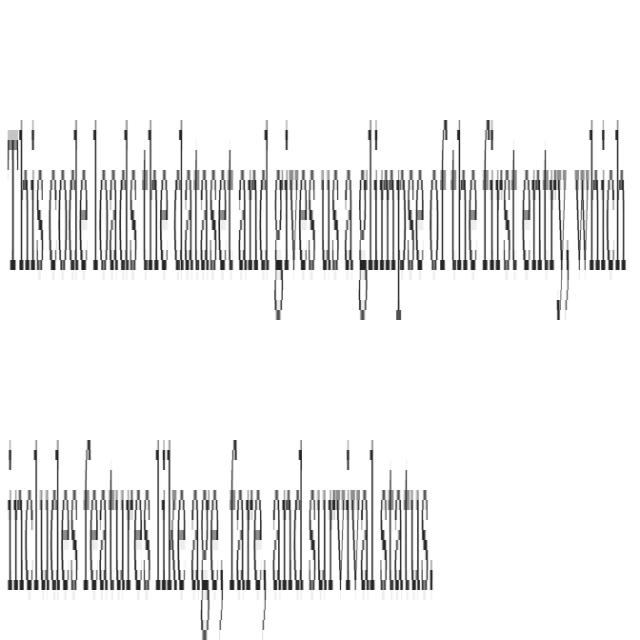word: (357, 95, 428, 367), (79, 400, 153, 640), (170, 81, 237, 319), (4, 419, 80, 610), (306, 443, 378, 640), (572, 105, 628, 319), (273, 95, 317, 348), (378, 433, 435, 624), (91, 76, 139, 300), (520, 114, 571, 324), (479, 81, 519, 305), (48, 95, 89, 305), (4, 95, 46, 295), (229, 430, 269, 640), (154, 410, 189, 629), (139, 76, 171, 314), (237, 115, 272, 315), (270, 438, 306, 624), (191, 450, 226, 640), (450, 90, 479, 305), (427, 96, 450, 334), (319, 124, 340, 309), (344, 119, 356, 329)
